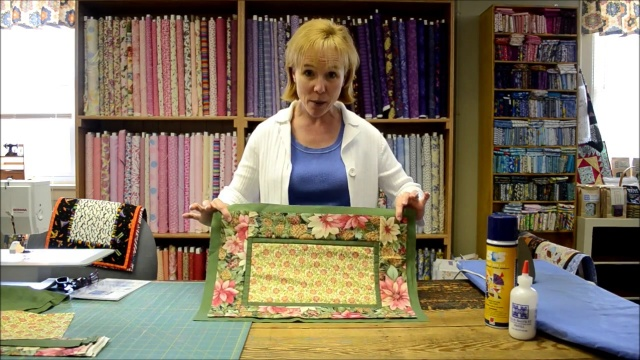person: (196, 16, 426, 221)
